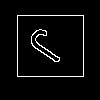J: (25, 25, 78, 72)
